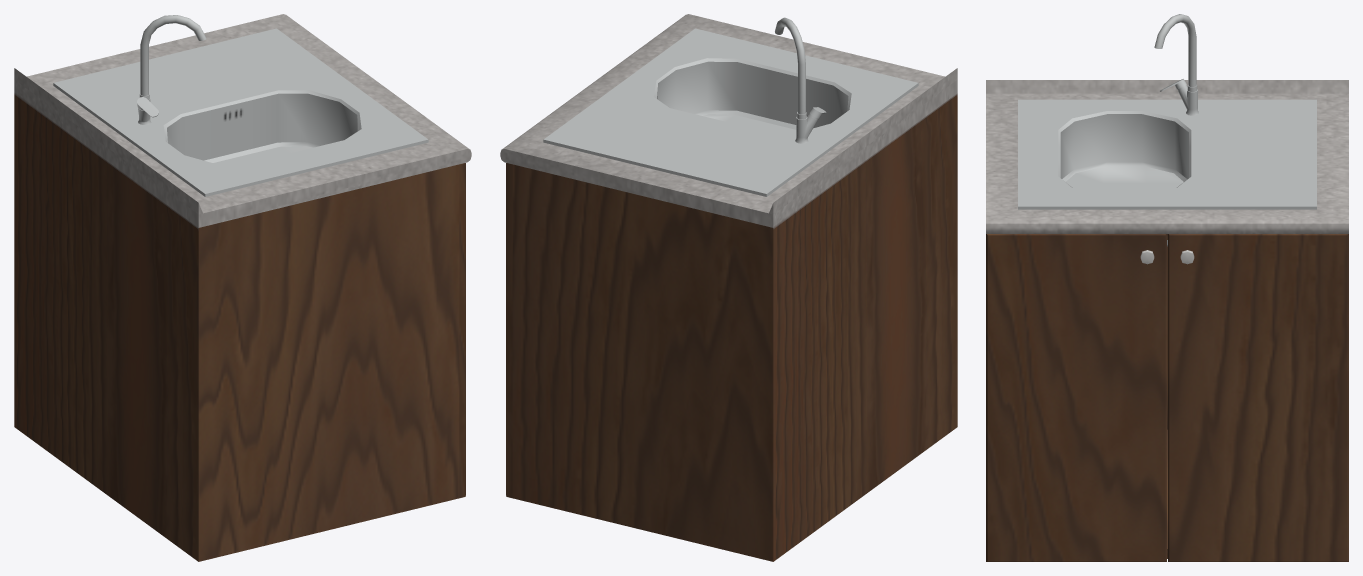
Rendered from CabinetWithSink.glb.
3 renders of one model, left to right at view 1: azimuth 30°, elevation 25°; view 2: azimuth 150°, elevation 25°; view 3: azimuth 270°, elevation 25°, orthographic.
Parts seen in each view (by area): view 1: KitchenCabinetWtichSink; view 2: KitchenCabinetWtichSink; view 3: KitchenCabinetWtichSink.
Boxes of the visible parts, <box> form: KitchenCabinetWtichSink: <box>14,14,471,561</box>; KitchenCabinetWtichSink: <box>500,14,957,561</box>; KitchenCabinetWtichSink: <box>986,14,1348,561</box>.
Size of the model in its own units: 0.6921 by 1.1 by 0.8.
1 material, 1 textured.
